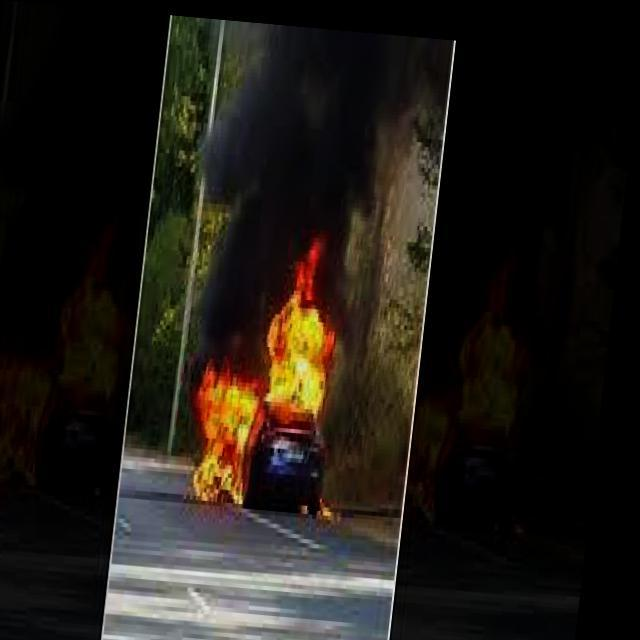Fire: (256, 274, 356, 438), (188, 340, 277, 512)
